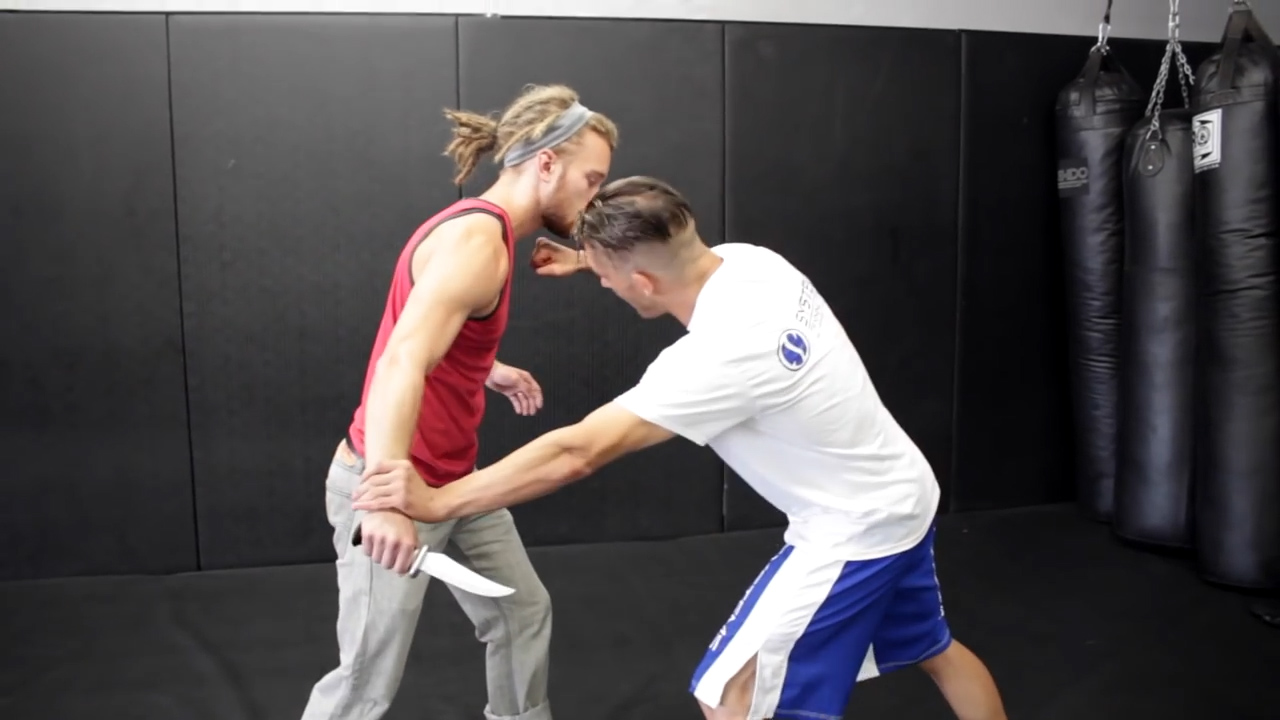knife: (344, 517, 525, 610)
